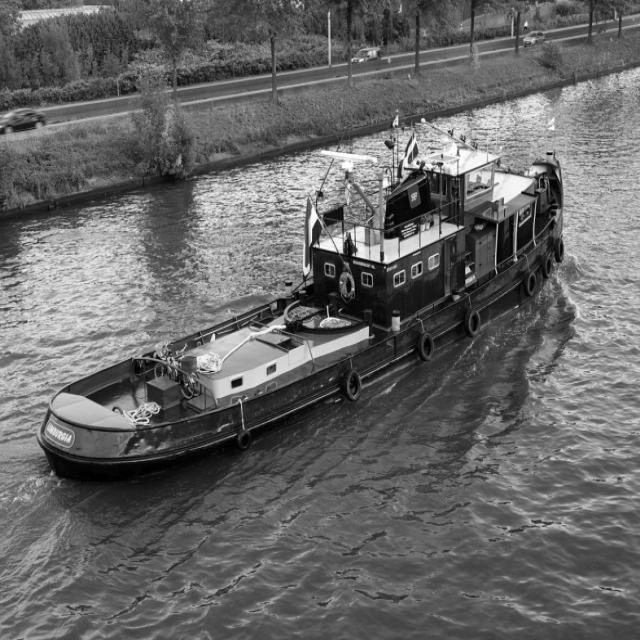tugboat: (34, 114, 571, 492)
